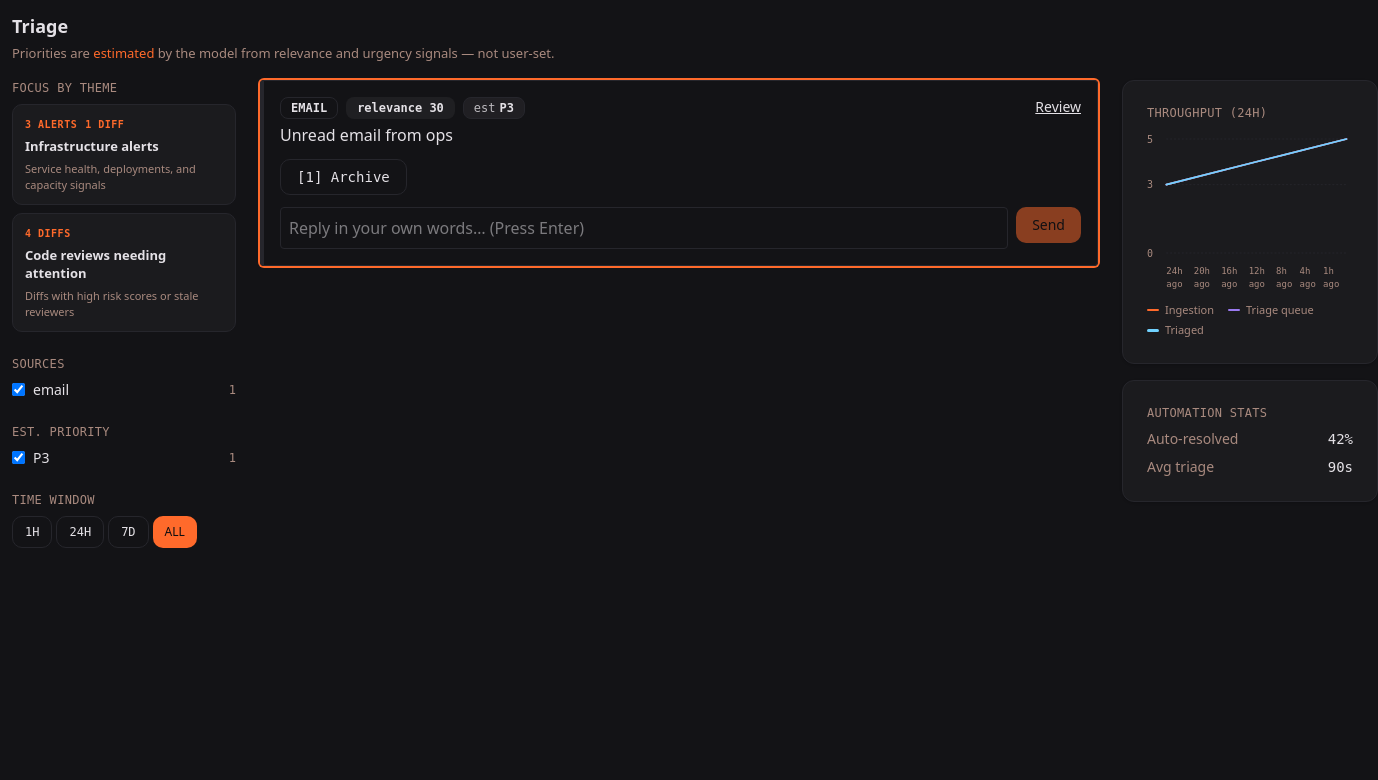
it: Triage page › shows the "no cards match filters" empty state (distinct from Inbox zero)
The image size is (1378, 780).
Check: the button "Unread email from ops" is shown, box [280,124,453,147]
Note: narrow to 1H — the only card is 3 days old, so the filtered set is empty
Click the button "1H".
click(32, 532)  # box [12,516,52,548]
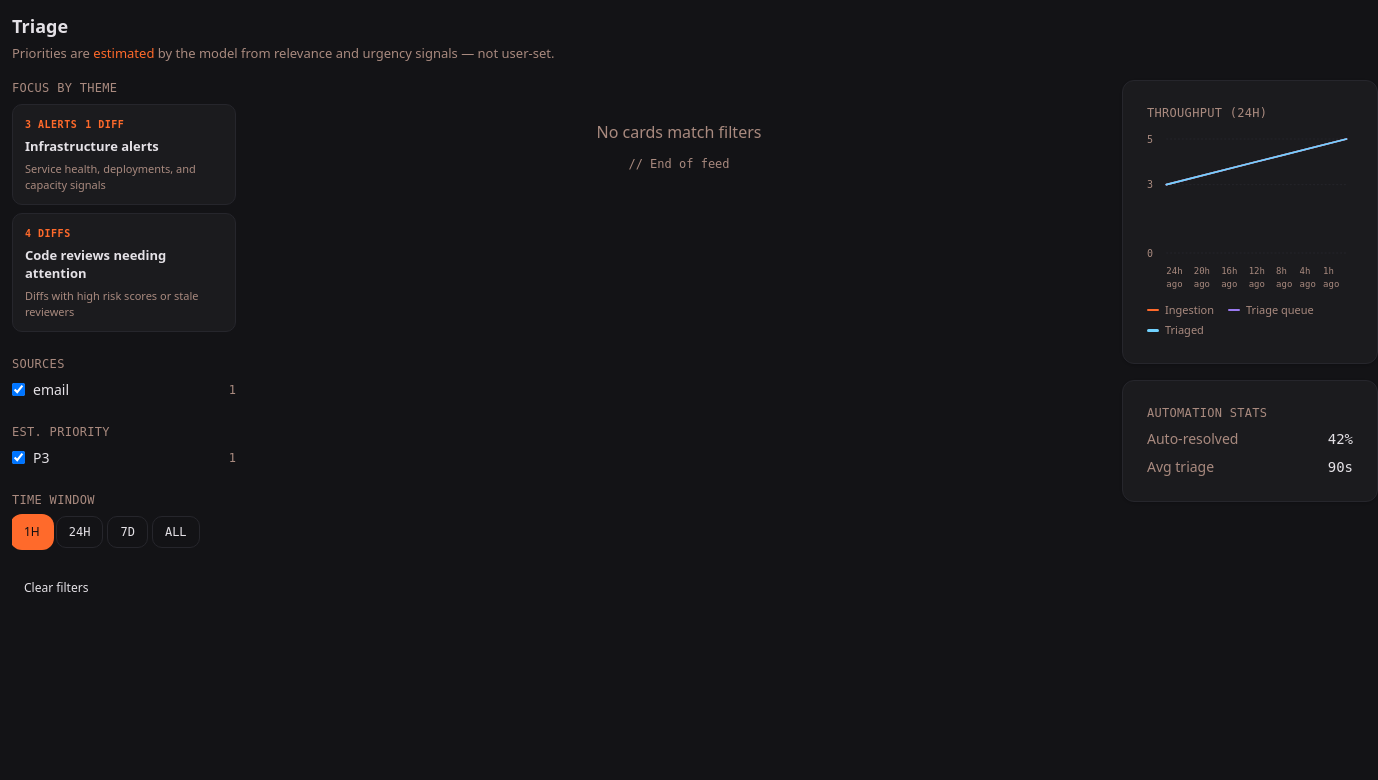
Check: the text "No cards match filters" is shown, box [596,120,761,144]
Note: clearing filters restores the card
Click the button "Clear filters".
click(56, 588)  # box [12,572,100,604]
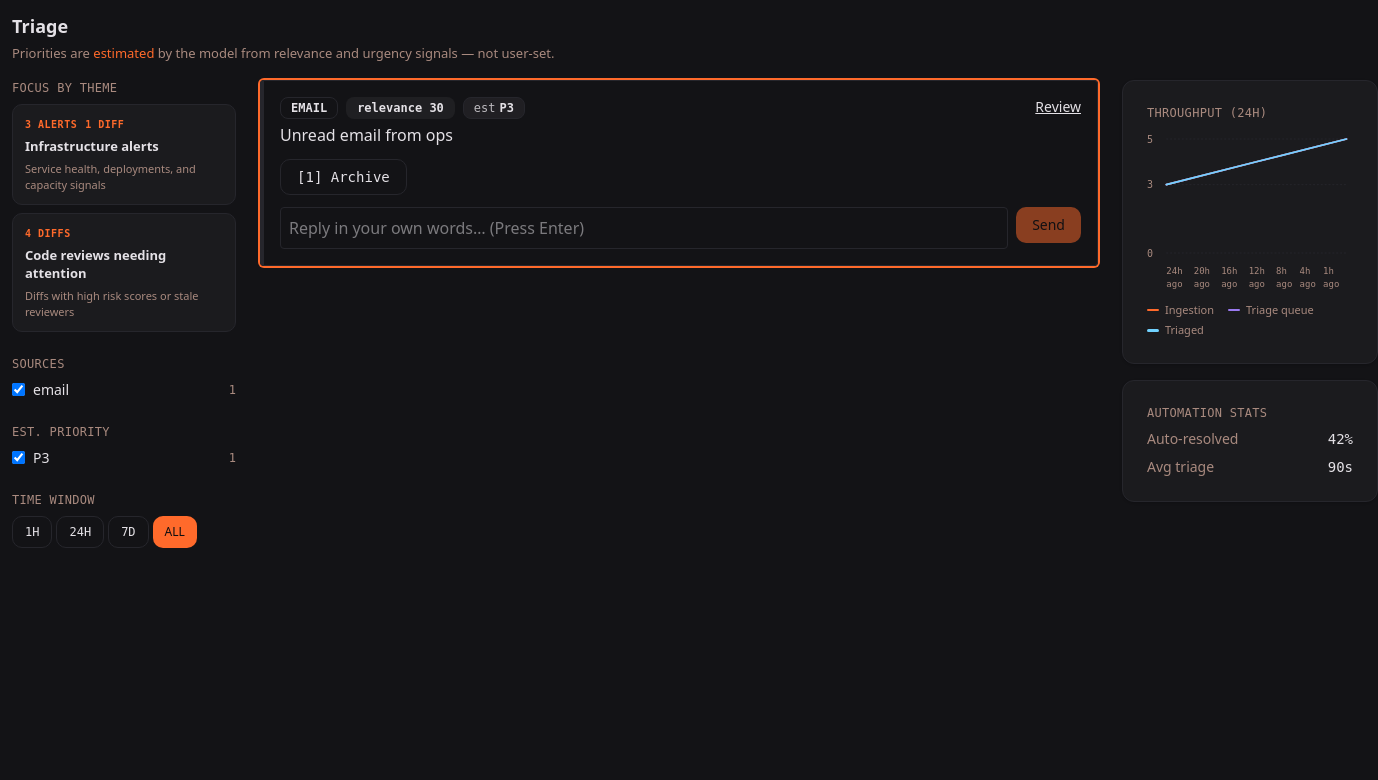
Check: the button "Unread email from ops" is shown, box [280,124,453,147]
